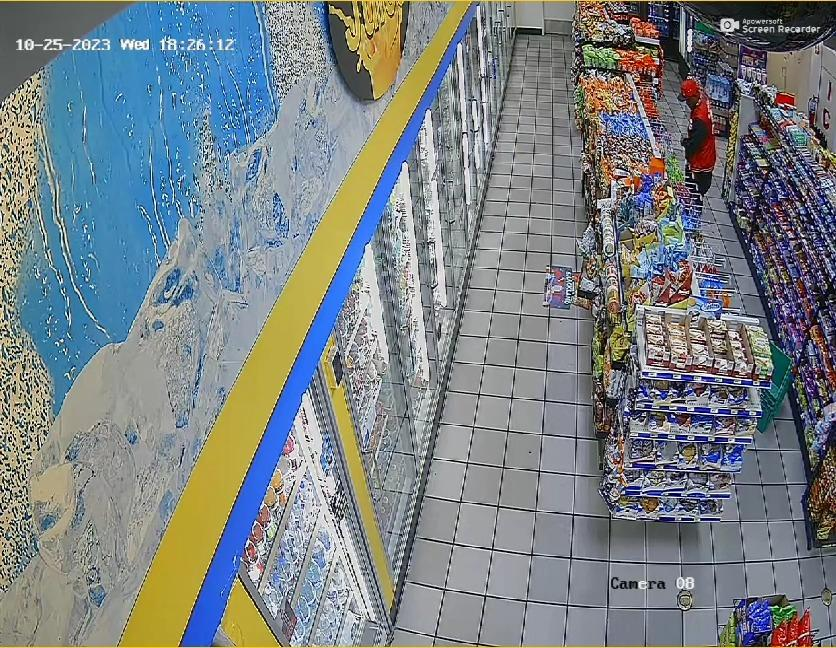shoplifting: (675, 72, 730, 240)
